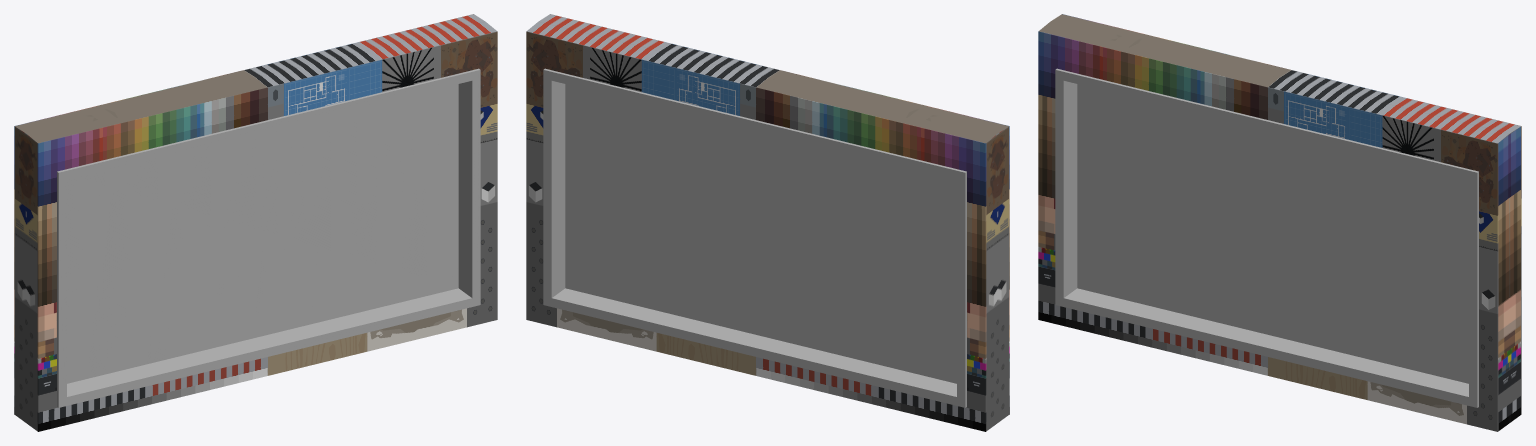
Rendered from SM_Bld_Base_Wall_Window_Half_02.glb.
The picture shows the model from 3 angles, left to right: view 1: azimuth 30°, elevation 25°; view 2: azimuth 150°, elevation 25°; view 3: azimuth 330°, elevation 25°; orthographic projection.
Visible parts, largest first — view 1: SM_Bld_Base_Wall_Window_Half_02_Glass, SM_Bld_Base_Wall_Window_Half_02; view 2: SM_Bld_Base_Wall_Window_Half_02_Glass, SM_Bld_Base_Wall_Window_Half_02; view 3: SM_Bld_Base_Wall_Window_Half_02_Glass, SM_Bld_Base_Wall_Window_Half_02.
Boxes of the visible parts, x1,y1,x2,y2 form: SM_Bld_Base_Wall_Window_Half_02_Glass: (67,84,458,383); SM_Bld_Base_Wall_Window_Half_02: (14,14,497,431); SM_Bld_Base_Wall_Window_Half_02_Glass: (565,84,956,383); SM_Bld_Base_Wall_Window_Half_02: (526,14,1009,431); SM_Bld_Base_Wall_Window_Half_02_Glass: (1077,84,1468,383); SM_Bld_Base_Wall_Window_Half_02: (1038,14,1521,431).
Size of the model in its own units: 2.5 by 1.51 by 0.2556.
3 materials, 2 textured.
